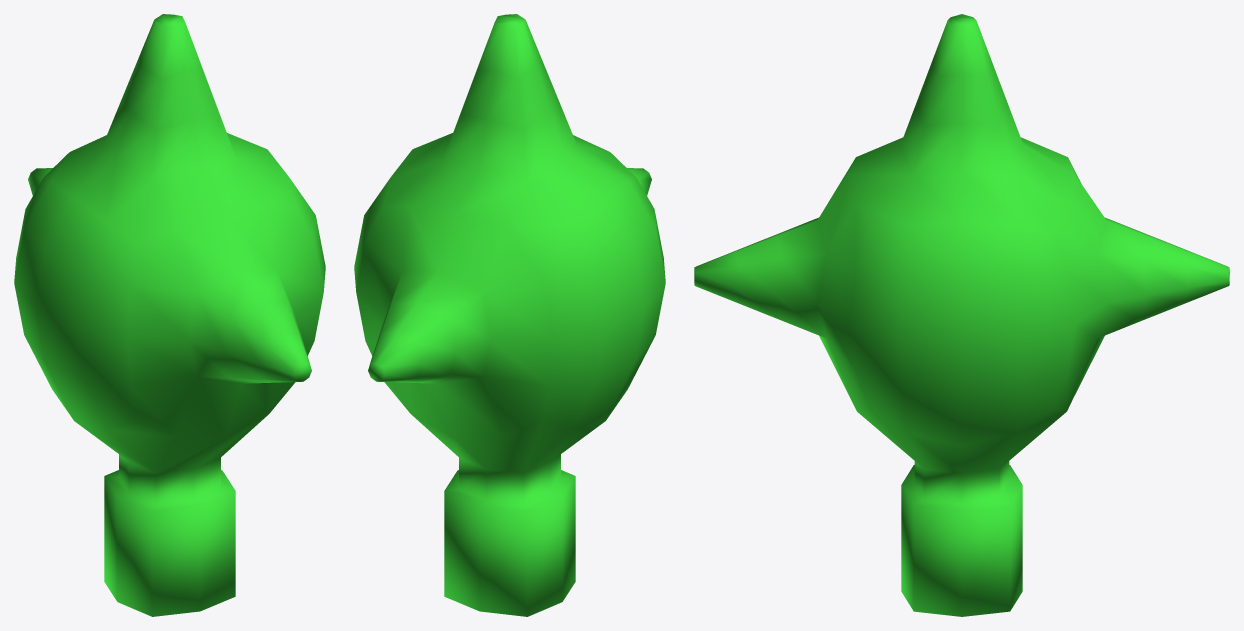
The model's file is Lightbulb.fbx.
The picture shows the model from 3 angles, left to right: view 1: azimuth 30°, elevation 25°; view 2: azimuth 150°, elevation 25°; view 3: azimuth 270°, elevation 25°; orthographic projection.
Visible parts, largest first — view 1: Lightbulb; view 2: Lightbulb; view 3: Lightbulb.
Part boxes in pixels (x1,y1,x2,y2): Lightbulb: (14, 14, 325, 616); Lightbulb: (354, 14, 665, 616); Lightbulb: (694, 14, 1229, 616).
Bounding box in the file's own units: 97.84 × 198 × 169.
